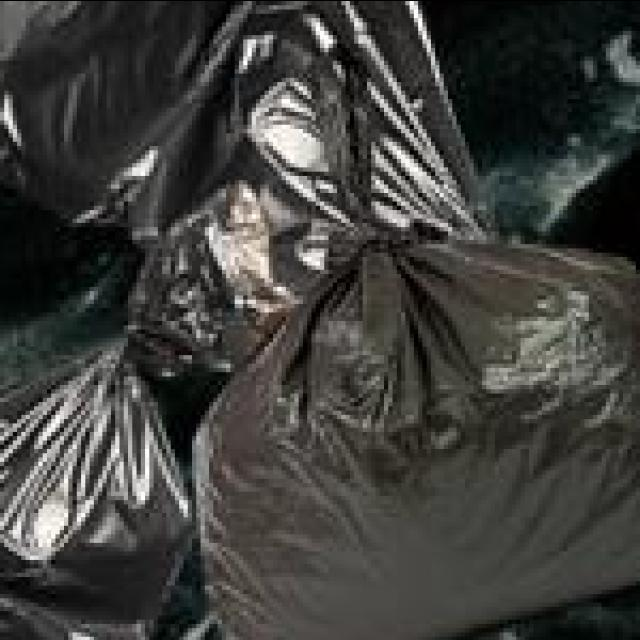Trashbag: (190, 187, 640, 640), (0, 337, 208, 640)
